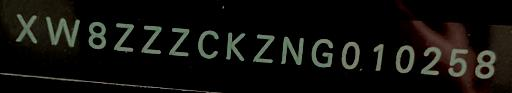letter: (43, 13, 83, 50), (135, 22, 167, 57), (305, 33, 337, 68), (10, 10, 40, 47), (470, 46, 500, 82), (110, 20, 140, 55), (220, 28, 250, 63), (164, 25, 192, 60), (194, 26, 222, 61), (416, 44, 444, 79), (278, 33, 306, 66), (250, 31, 276, 66), (444, 44, 470, 79), (336, 38, 362, 71), (84, 17, 108, 52), (393, 41, 417, 76), (368, 39, 388, 74)
